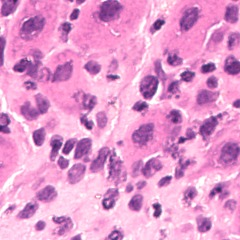New: (4, 1, 64, 69), (72, 1, 147, 46), (208, 131, 240, 178)
